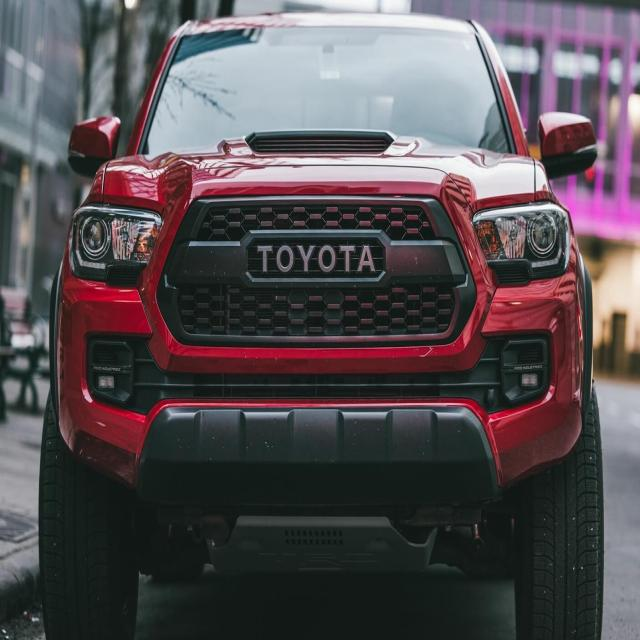CMT: (45, 7, 600, 635)
